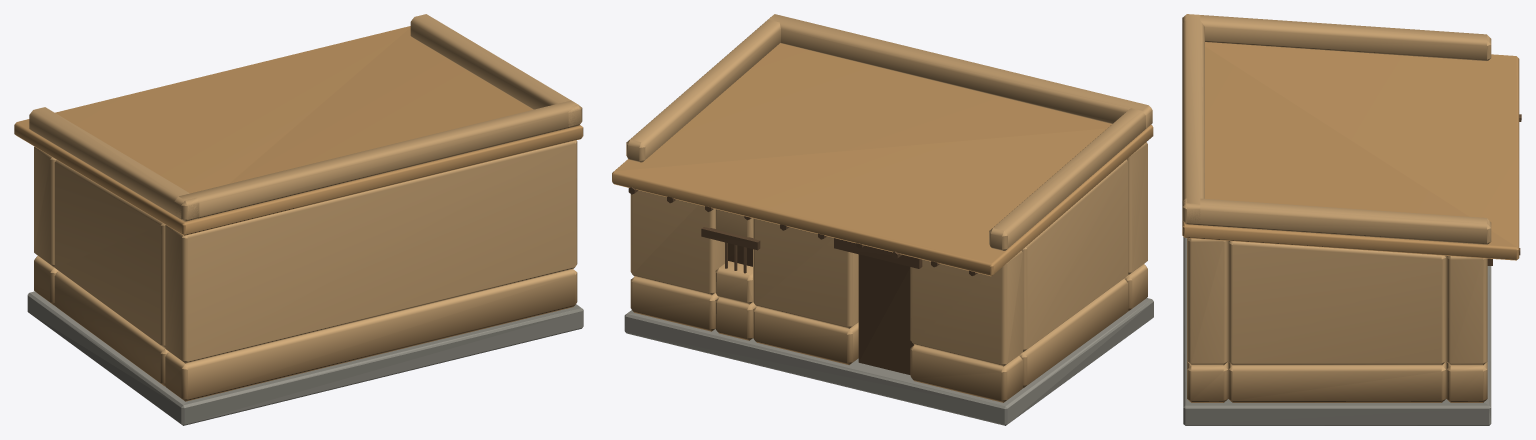
Rendered from hx_casa_adobe.glb.
3 views of the same model, side by side, from view 1: azimuth 30°, elevation 25°; view 2: azimuth 150°, elevation 25°; view 3: azimuth 270°, elevation 25° (orthographic). The views are drawn at different scales.
Parts seen in each view (by area): view 1: hx_casa_adobe_geometry; view 2: hx_casa_adobe_geometry; view 3: hx_casa_adobe_geometry.
Boxes of the visible parts, <box> form: hx_casa_adobe_geometry: <box>14,14,583,425</box>; hx_casa_adobe_geometry: <box>612,14,1153,425</box>; hx_casa_adobe_geometry: <box>1182,14,1521,425</box>.
Bounding box in the file's own units: 6.1 × 3.25 × 4.51.
